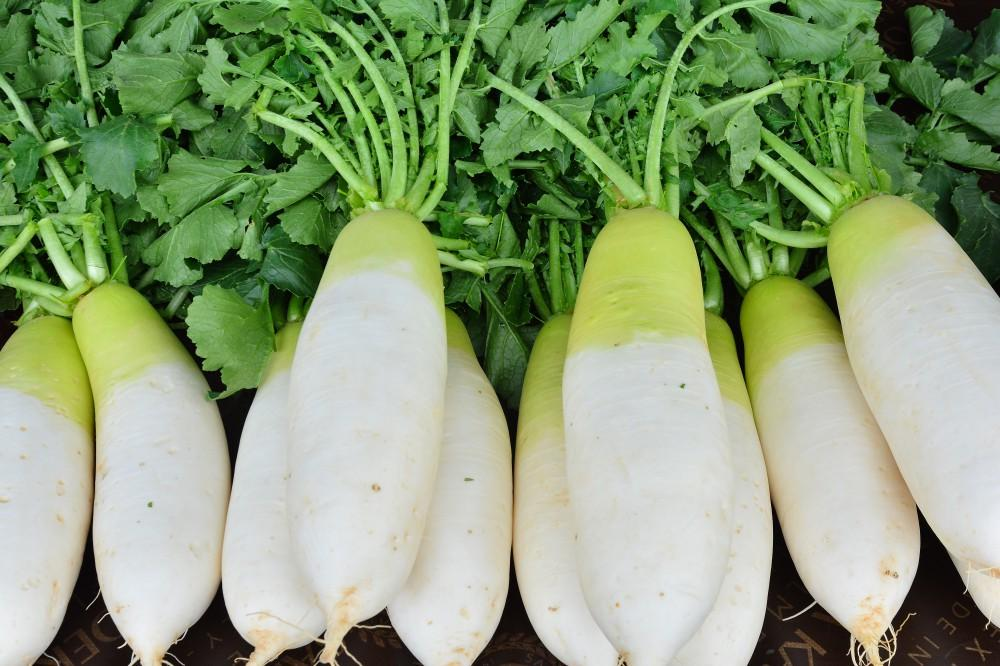radish: (502, 232, 681, 632), (910, 222, 1000, 666)
